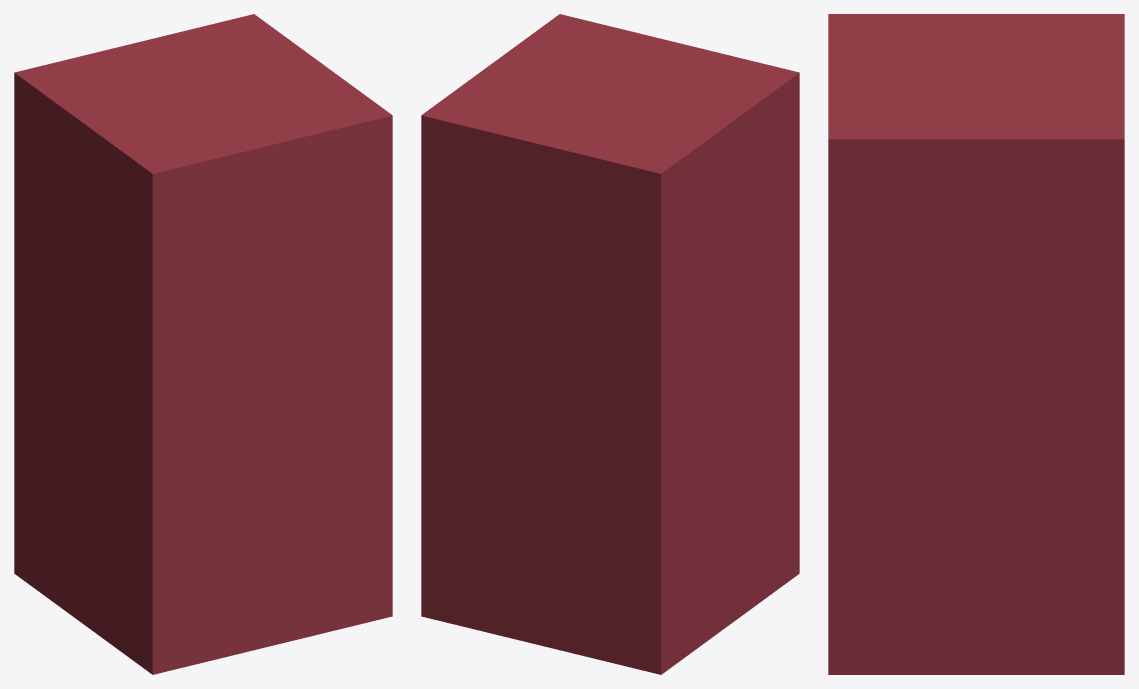
The model's file is PastelRedNormalEdge.fbx.
The picture shows the model from 3 angles, left to right: view 1: azimuth 30°, elevation 25°; view 2: azimuth 150°, elevation 25°; view 3: azimuth 270°, elevation 25°; orthographic projection. The views are drawn at different scales.
Parts seen in each view (by area): view 1: 4.BODY.green.008; view 2: 4.BODY.green.008; view 3: 4.BODY.green.008.
Boxes of the visible parts, x1,y1,x2,y2 form: 4.BODY.green.008: [14, 14, 392, 674]; 4.BODY.green.008: [421, 14, 799, 674]; 4.BODY.green.008: [828, 14, 1124, 674].
Size of the model in its own units: 101 by 201 by 101.
